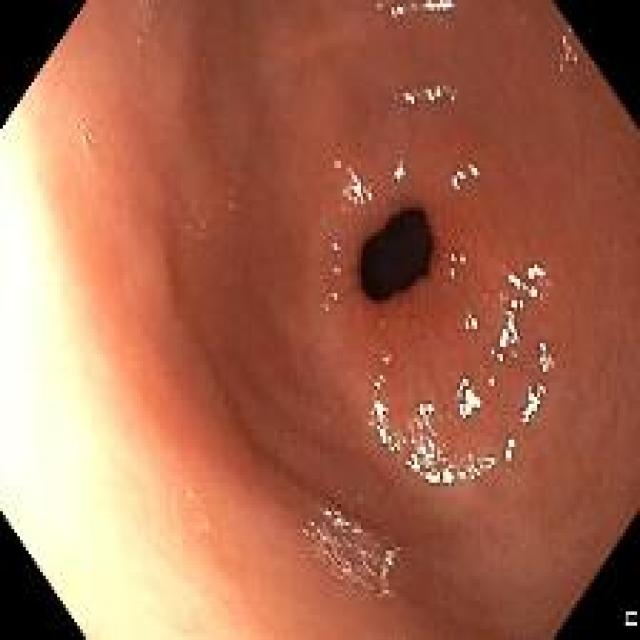bubbles: (80, 129, 97, 148), (563, 47, 578, 65), (442, 249, 456, 266), (411, 0, 427, 14), (380, 352, 394, 368), (448, 88, 459, 107), (385, 532, 395, 545), (131, 36, 141, 47)
contrast: (357, 206, 434, 306)
saturation: (0, 83, 146, 640), (147, 464, 268, 640)
specularity: (406, 435, 496, 486), (372, 396, 403, 456), (453, 376, 485, 416), (496, 306, 526, 346), (520, 383, 546, 422), (505, 271, 539, 297), (536, 341, 550, 373), (425, 84, 445, 103), (352, 184, 372, 203), (504, 435, 517, 462), (417, 400, 435, 419), (324, 509, 342, 528), (450, 170, 466, 190), (401, 90, 419, 106), (425, 1, 453, 11), (524, 265, 544, 279), (466, 161, 481, 177), (393, 165, 407, 182), (389, 4, 405, 18), (372, 376, 385, 393), (489, 346, 503, 361), (464, 316, 478, 330), (418, 419, 432, 431), (509, 297, 524, 308), (385, 553, 394, 568), (487, 375, 496, 389), (330, 291, 338, 300), (332, 243, 338, 254)
